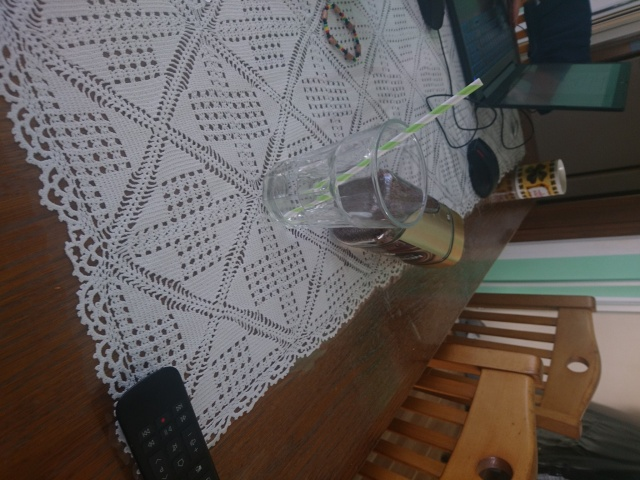Nescafe Gold 225g: (326, 167, 467, 270)
